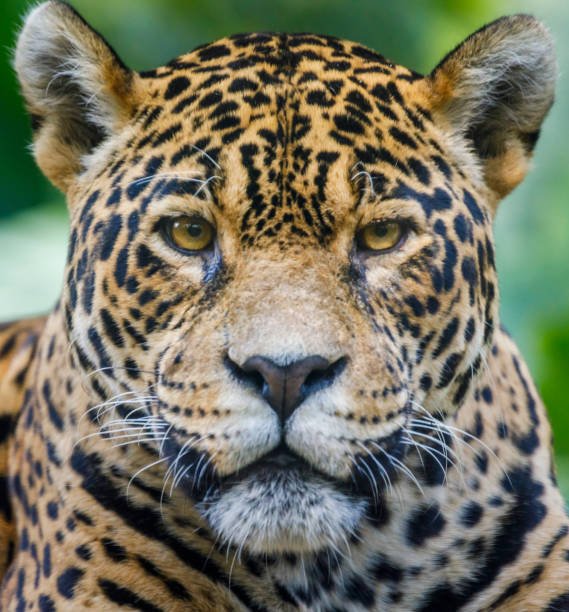cheetah: (18, 1, 569, 586)
